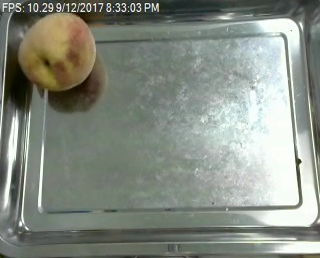Peach: (17, 9, 97, 89)
